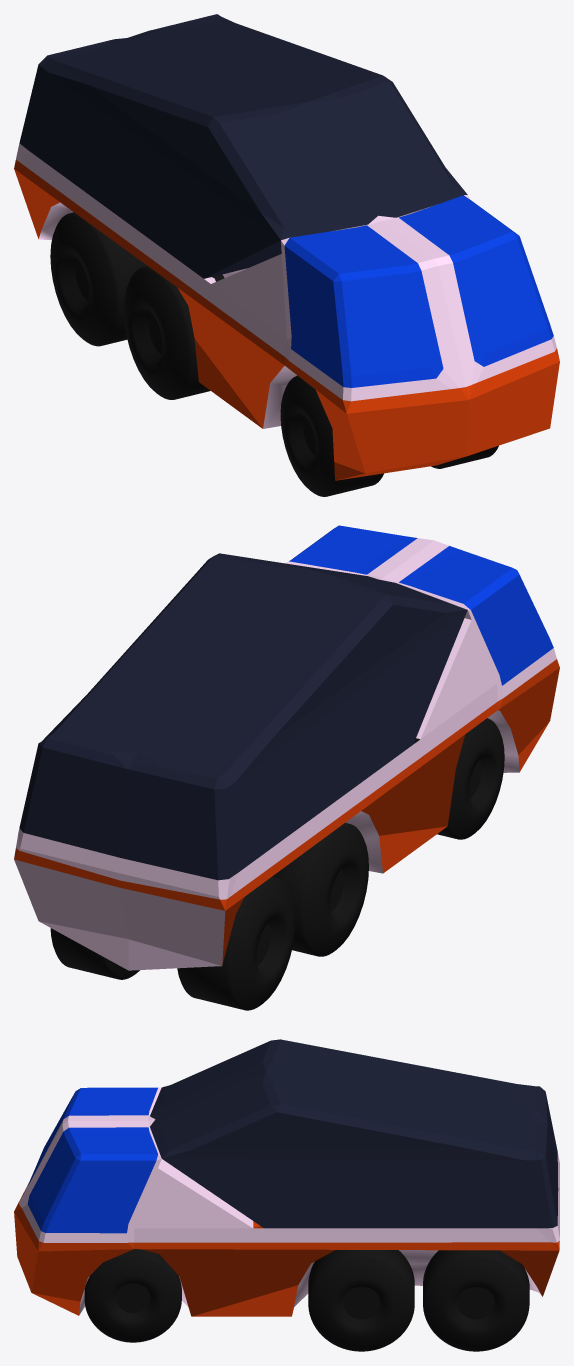
The model's file is Car.fbx.
3 renders of one model, top to bottom at view 1: azimuth 30°, elevation 25°; view 2: azimuth 150°, elevation 25°; view 3: azimuth 270°, elevation 25°, orthographic. The views are drawn at different scales.
Visible parts, largest first — view 1: Cube, Cylinder.002, Cylinder.001, Cylinder; view 2: Cube, Cylinder.002, Cylinder.001, Cylinder; view 3: Cube, Cylinder.001, Cylinder.002, Cylinder.
Part boxes in pixels (x1,y1,x2,y2): Cube: [14, 14, 559, 480]; Cylinder.002: [50, 212, 147, 346]; Cylinder.001: [124, 266, 224, 399]; Cylinder: [280, 375, 498, 496]; Cube: [14, 525, 559, 970]; Cylinder.002: [50, 876, 295, 1010]; Cylinder.001: [272, 823, 368, 956]; Cylinder: [414, 718, 504, 839]; Cube: [14, 1039, 559, 1316]; Cylinder.001: [308, 1250, 414, 1351]; Cylinder.002: [423, 1250, 529, 1351]; Cylinder: [84, 1249, 181, 1342].
Bounding box in the file's own units: 290 × 409 × 818.
